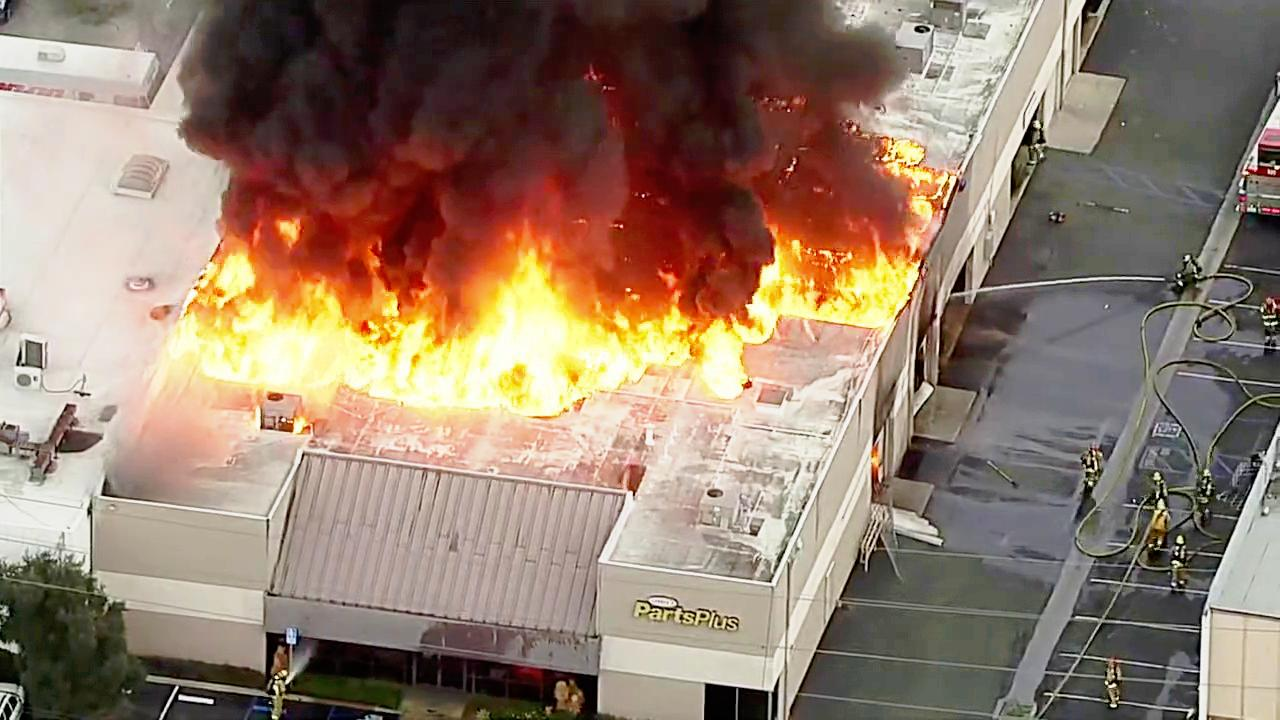fire: (194, 239, 393, 402), (545, 289, 794, 411), (398, 272, 594, 418), (743, 240, 922, 352)
smoke: (230, 4, 817, 160)
